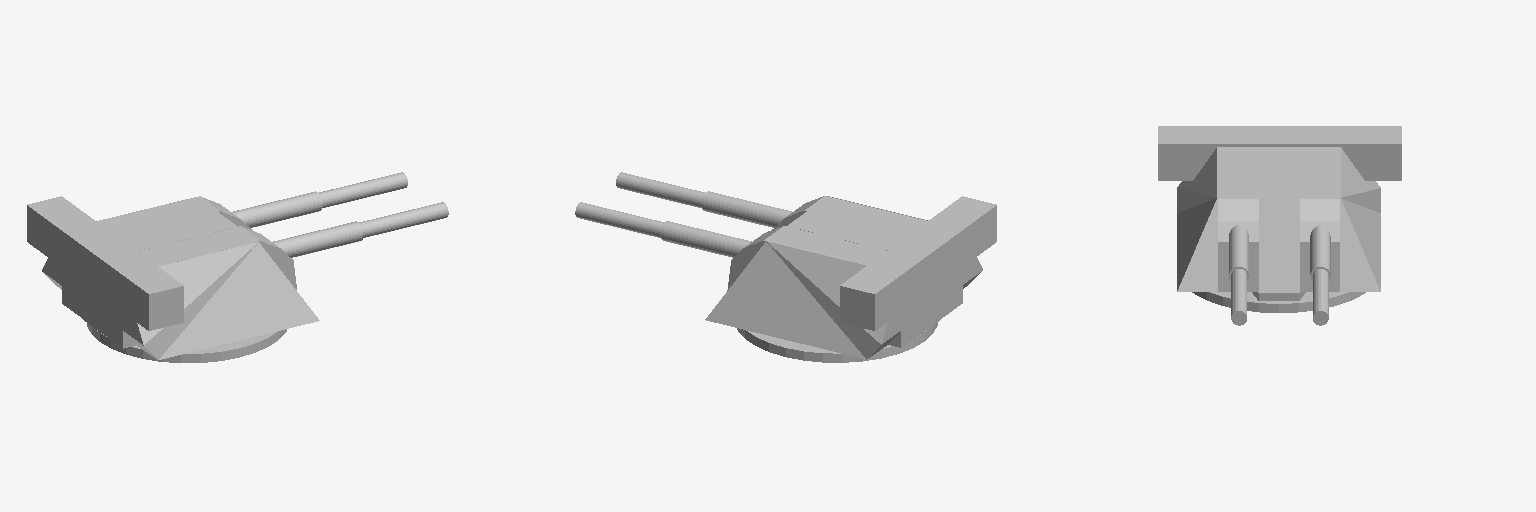
File: 400mmDouble.obj
The picture shows the model from 3 angles: view 1: azimuth 30°, elevation 25°; view 2: azimuth 150°, elevation 25°; view 3: azimuth 270°, elevation 25°; orthographic projection.
Parts seen in each view (by area): view 1: Cube.005; view 2: Cube.005; view 3: Cube.005.
Boxes of the visible parts, x1,y1,x2,y2 form: Cube.005: [27, 172, 448, 362]; Cube.005: [575, 172, 996, 362]; Cube.005: [1158, 126, 1401, 325].
Bounding box in the file's own units: 3.81 × 1.03 × 2.4.